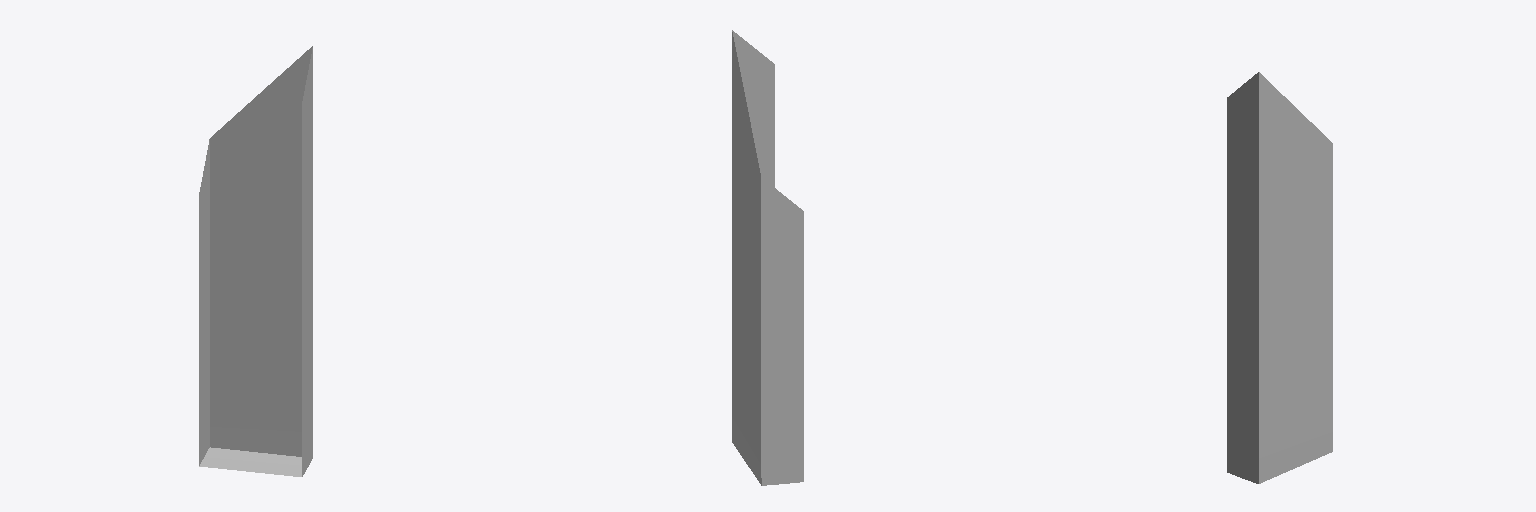
File: li-fang-ti-.001_cell.106.obj
3 renders of one model, left to right at view 1: azimuth 30°, elevation 25°; view 2: azimuth 150°, elevation 25°; view 3: azimuth 270°, elevation 25°, orthographic.
Visible parts, largest first — view 1: 立方体.001_cell.106; view 2: 立方体.001_cell.106; view 3: 立方体.001_cell.106.
Part boxes in pixels (x1,y1,x2,y2): 立方体.001_cell.106: (199,46,312,476); 立方体.001_cell.106: (732,30,803,485); 立方体.001_cell.106: (1227,72,1332,483).
Bounding box in the file's own units: 0.0754 × 0.321 × 0.0744.